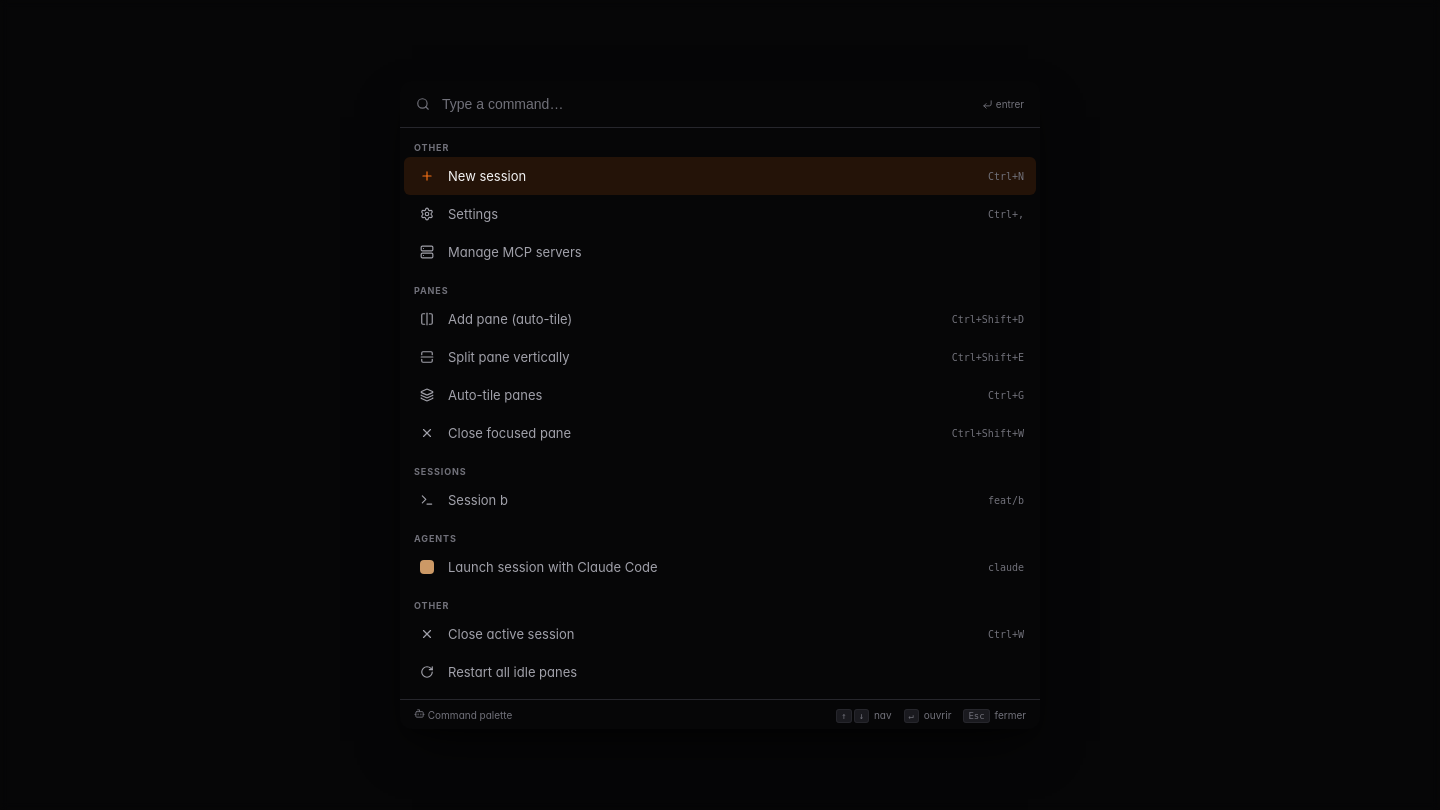
Test: CommandPalette › shows the no-results state with the query echoed back
In the dropdown: point(706, 104) [440, 95, 972, 113], type "zzzznotacommandzzzz"
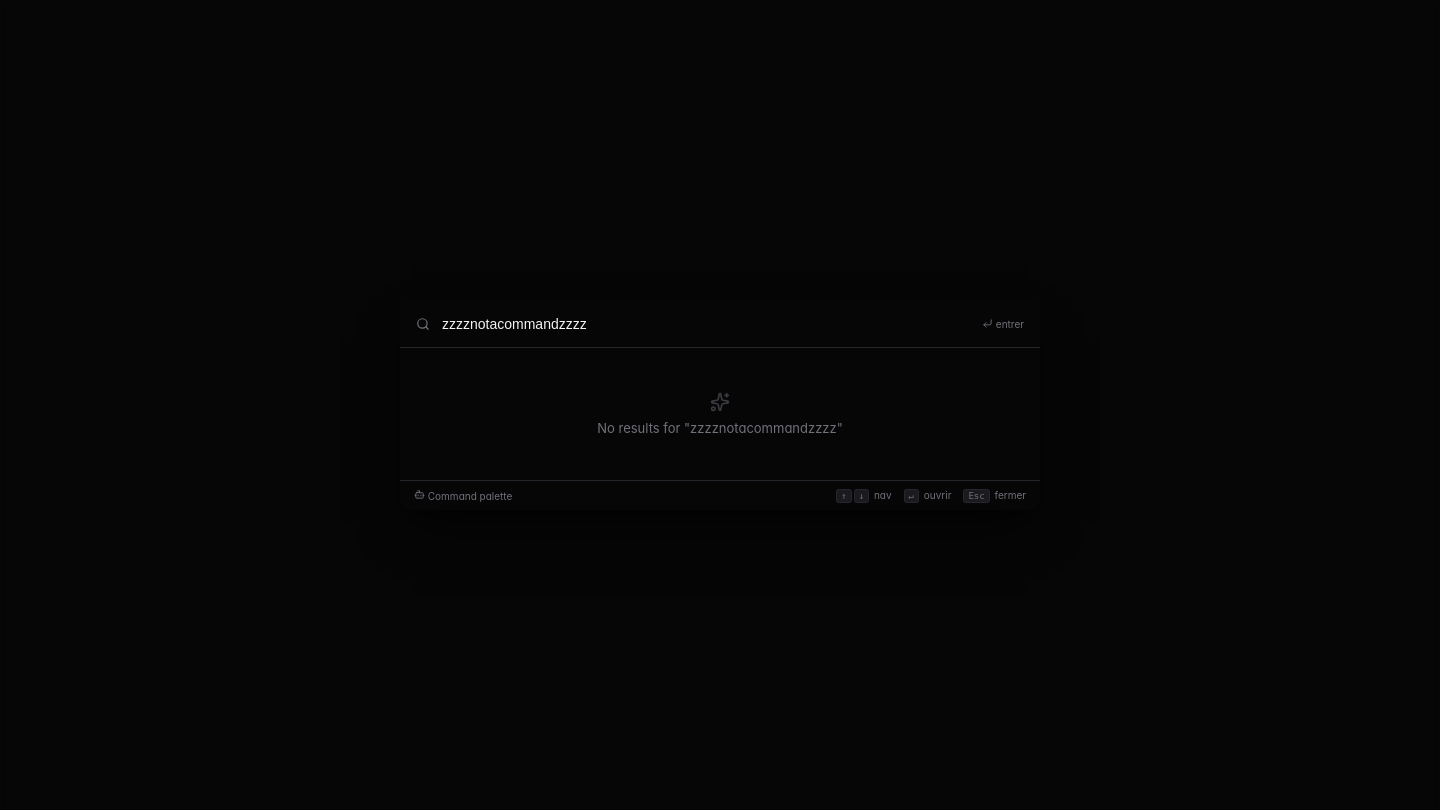
expect the text "No results for \"zzzznotacommandzzzz\"" is shown: met, box [597, 420, 843, 436]
